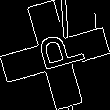P_W: (26, 30, 84, 80)
